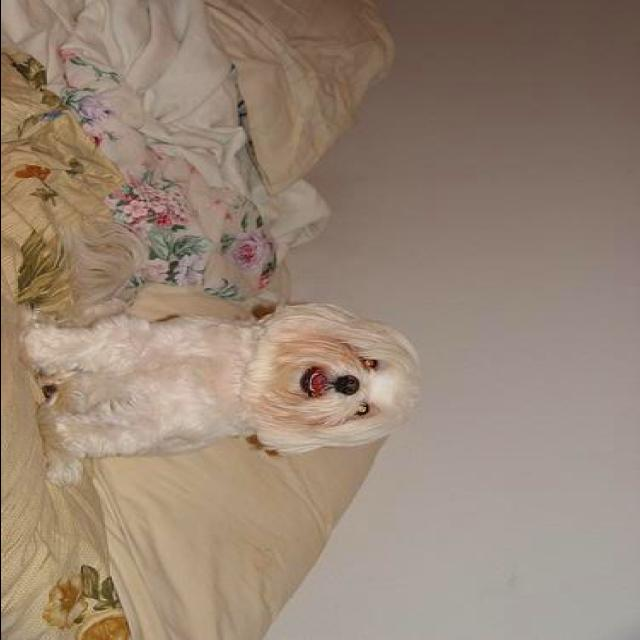maltese_dog: (16, 299, 423, 492)
